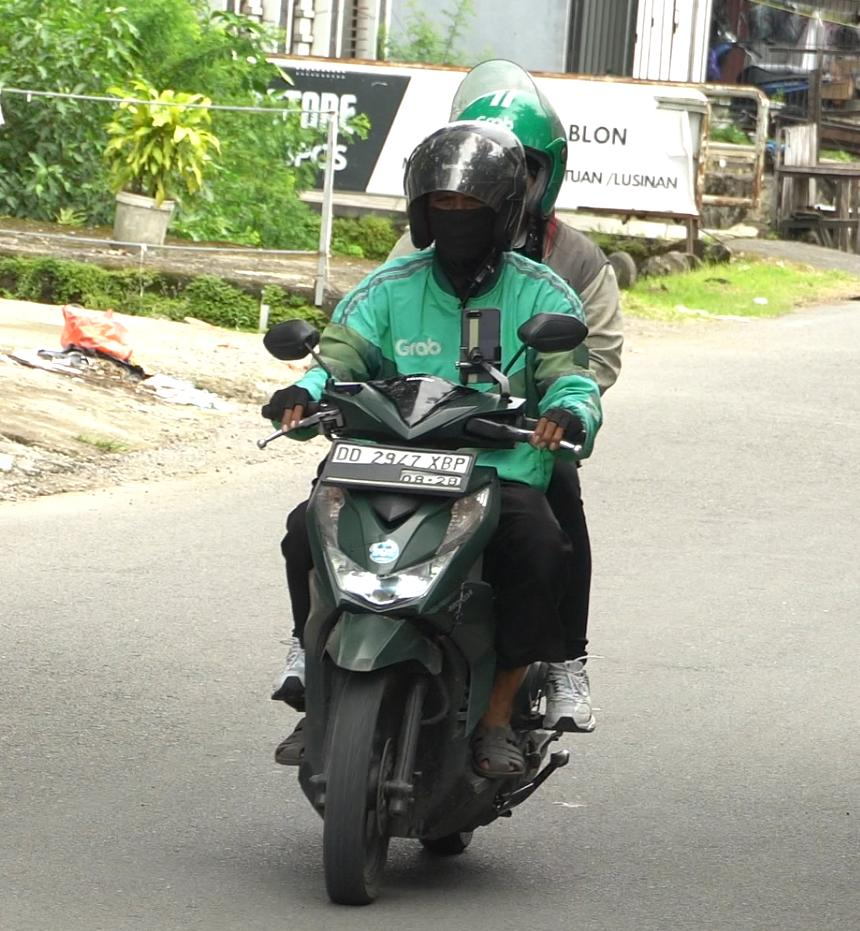number-plate: (326, 438, 470, 494)
